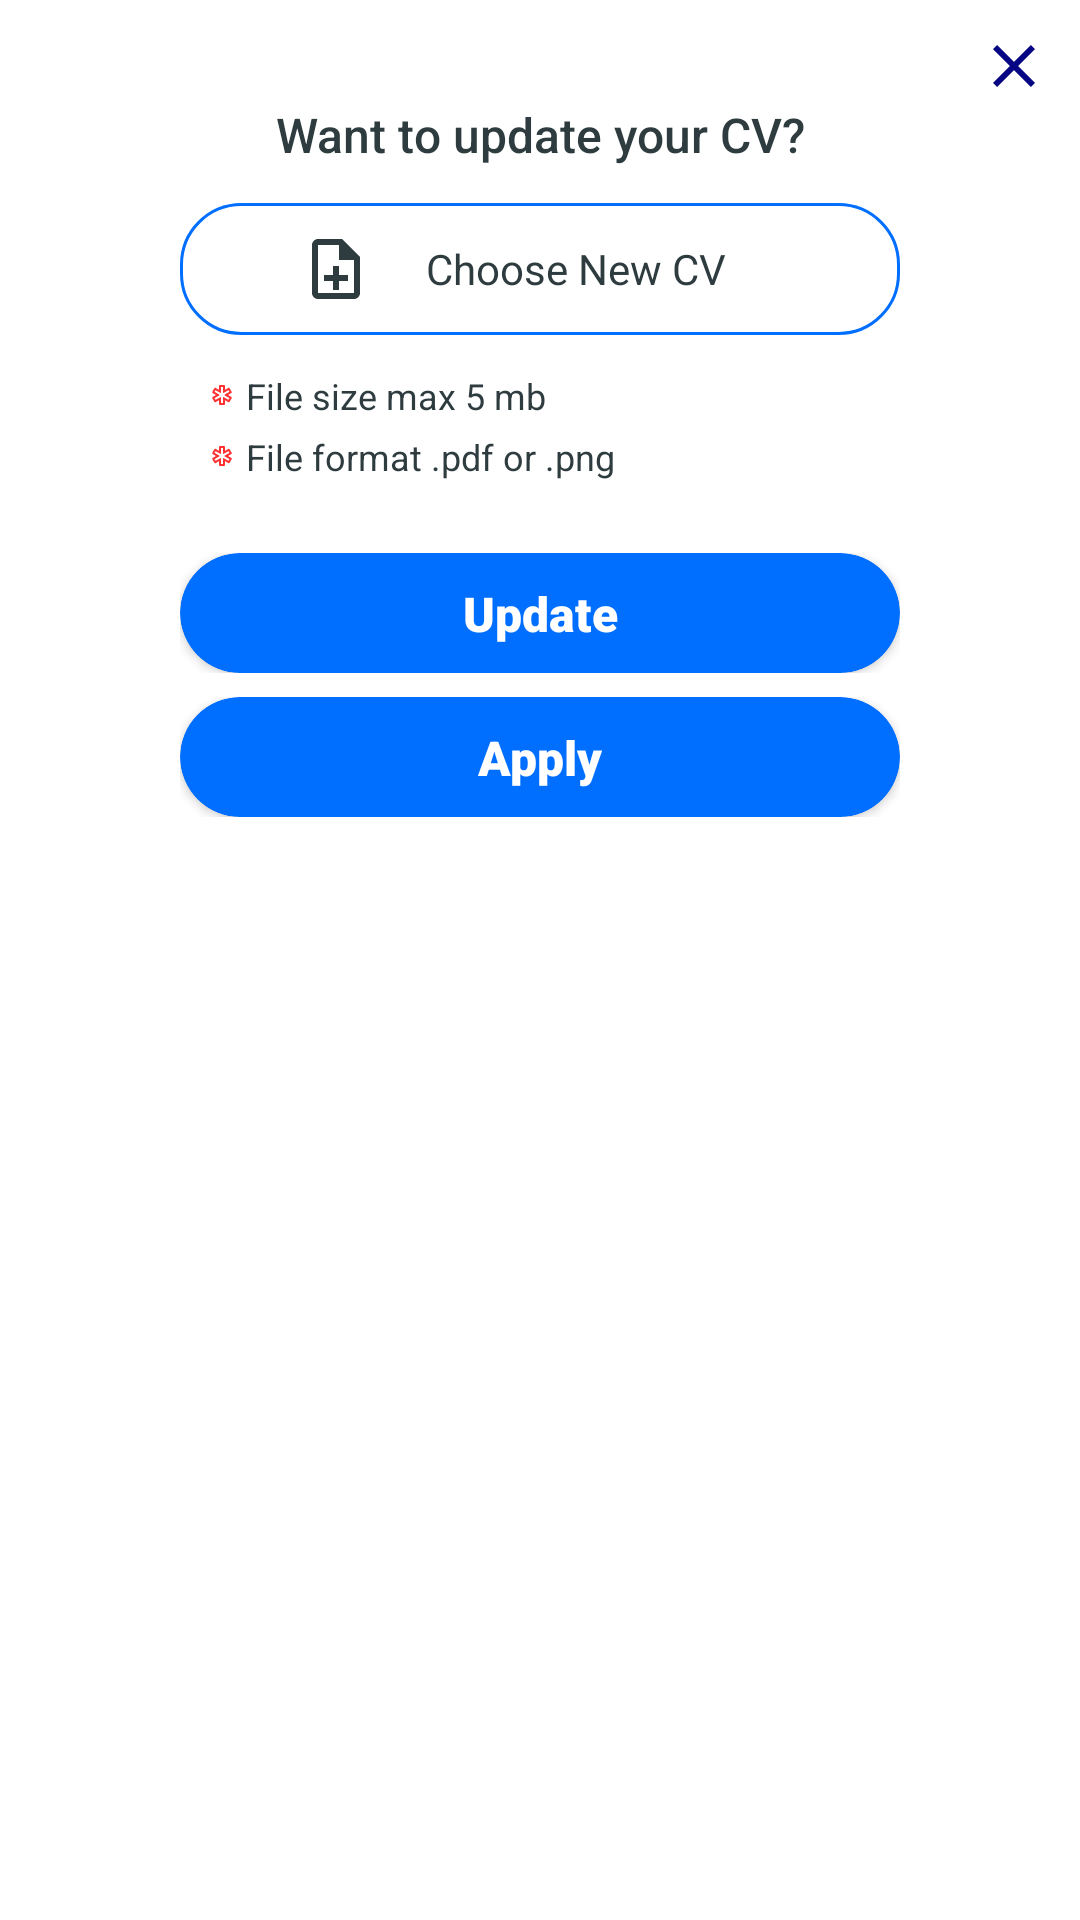

Point at icon controls on the screen. Image size 1080*1920, points as point (x, y).
close: point (1014, 66)
